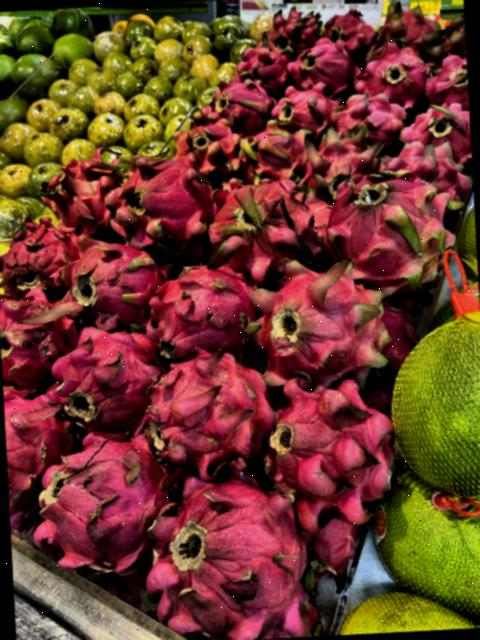buah-naga-belum-matang: (244, 266, 390, 399), (327, 165, 460, 298), (379, 135, 474, 213), (298, 125, 382, 202), (39, 152, 117, 234), (234, 119, 314, 191)
buah-naga-matang: (139, 448, 323, 640), (266, 372, 394, 522), (40, 436, 172, 580), (144, 347, 282, 472), (43, 314, 166, 438), (197, 165, 322, 283), (54, 214, 162, 326), (140, 250, 250, 358), (108, 154, 214, 266), (0, 285, 74, 390), (0, 214, 76, 311), (4, 389, 72, 492), (399, 95, 472, 166), (330, 84, 407, 146), (265, 84, 335, 138), (176, 118, 238, 177), (366, 44, 429, 102), (298, 35, 356, 95), (205, 81, 263, 131), (430, 48, 468, 104)
